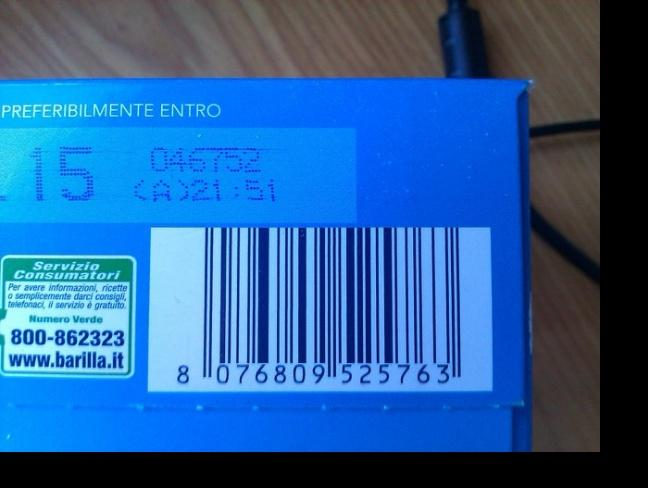Barcode: (168, 227, 466, 388)
